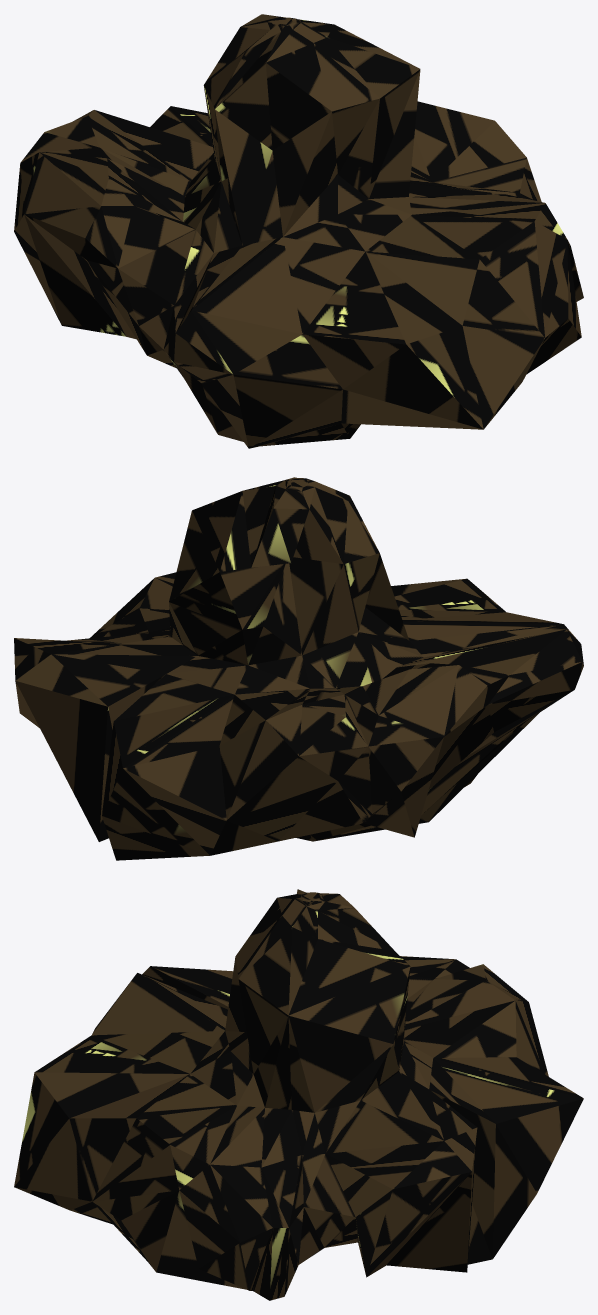
File: island.obj
3 views of the same model, one above another, from view 1: azimuth 30°, elevation 25°; view 2: azimuth 150°, elevation 25°; view 3: azimuth 270°, elevation 25° (orthographic). The views are drawn at different scales.
Visible parts, largest first — view 1: Icosphere; view 2: Icosphere; view 3: Icosphere.
Boxes of the visible parts, x1,y1,x2,y2 form: Icosphere: (14, 14, 583, 448); Icosphere: (14, 477, 583, 860); Icosphere: (14, 889, 583, 1300).
Bounding box in the file's own units: 143 × 112 × 157.
1 material, 1 textured.
